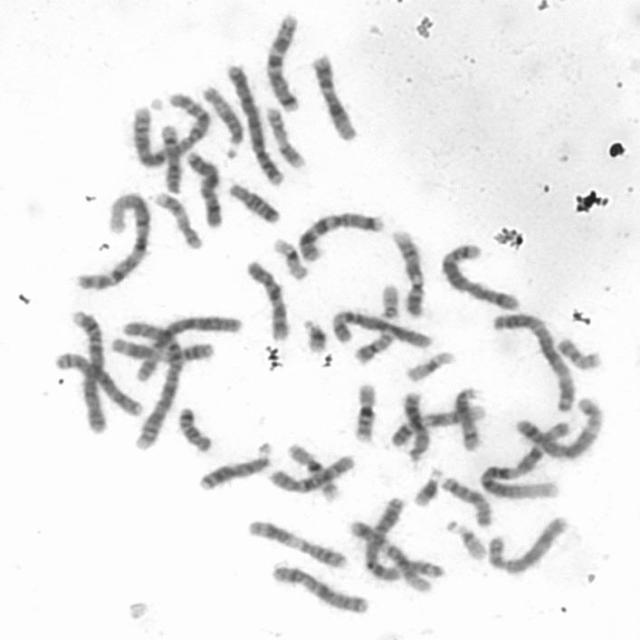A1: (70, 187, 154, 293), (477, 415, 574, 502)
A2: (116, 315, 185, 451), (128, 86, 214, 167)
A3: (487, 306, 578, 414), (367, 500, 450, 580)
B4: (221, 57, 286, 188), (64, 304, 109, 435)
B5: (511, 392, 606, 463), (436, 238, 522, 312)
C10: (241, 254, 292, 343), (264, 450, 359, 496)
C11: (243, 514, 352, 570), (107, 332, 217, 363)
C12: (346, 515, 441, 590), (308, 49, 360, 143)
C6: (126, 309, 245, 384), (326, 305, 434, 351)
C7: (294, 206, 387, 263), (261, 9, 303, 114)
C8: (49, 346, 148, 418), (482, 511, 574, 576)
C9: (384, 399, 486, 449), (388, 224, 428, 319)
D13: (195, 440, 275, 492), (397, 387, 431, 463)
D14: (449, 382, 486, 453), (157, 120, 186, 194)
D15: (197, 80, 247, 160), (437, 472, 496, 529)
E16: (282, 438, 343, 502), (349, 376, 380, 444)
E17: (150, 187, 204, 252), (262, 102, 308, 170)
E18: (224, 178, 282, 225), (174, 402, 215, 454)
F19: (401, 346, 458, 383), (268, 233, 310, 282)
F20: (552, 332, 604, 372), (349, 325, 398, 366)
G21: (410, 462, 446, 509), (298, 314, 329, 354)
G22: (441, 514, 489, 562), (376, 278, 402, 321)
X: (266, 559, 372, 616), (182, 146, 226, 229)
